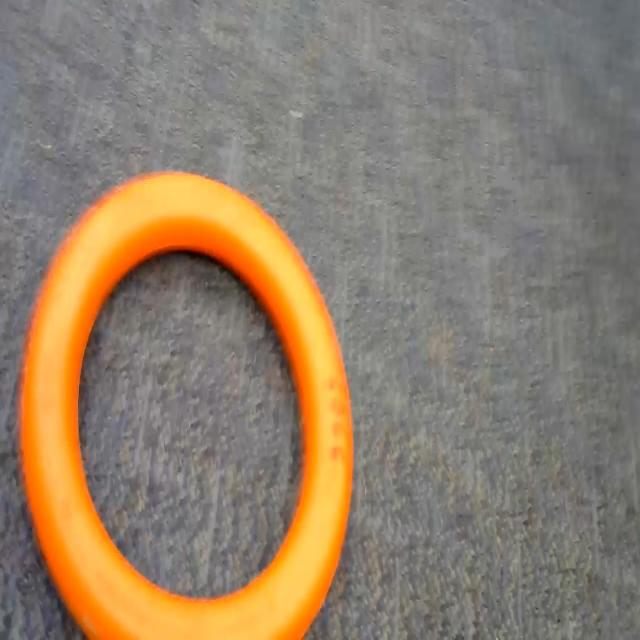note: (13, 149, 367, 640)
